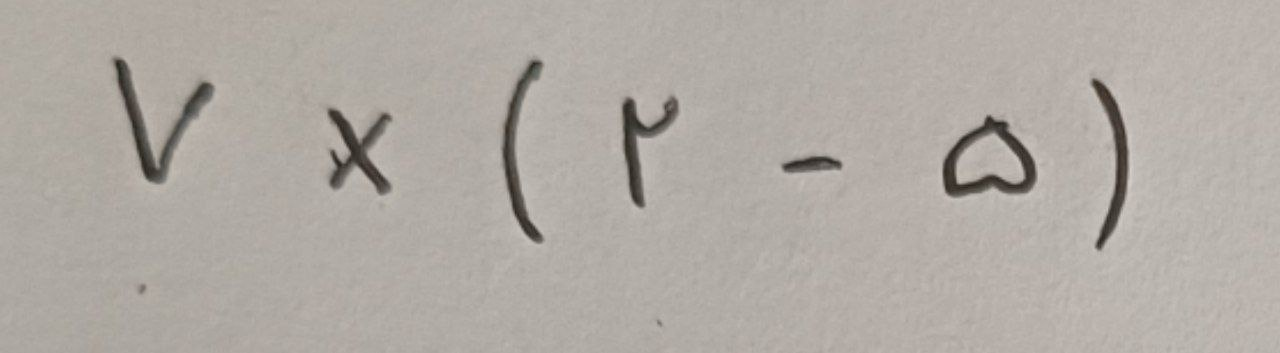character: (112, 57, 214, 182), (1092, 77, 1142, 252), (942, 113, 1041, 199), (503, 59, 543, 243), (622, 95, 690, 203), (328, 108, 392, 190), (783, 154, 848, 172)
